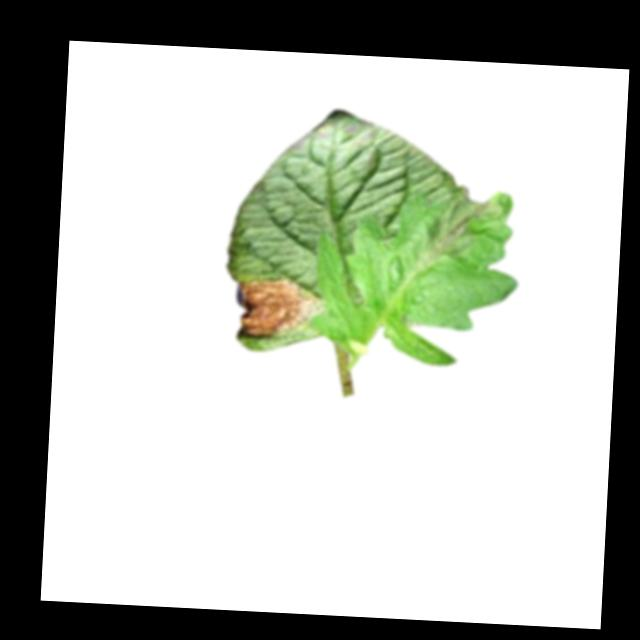Late_blight: (233, 275, 321, 342), (424, 190, 502, 262)
